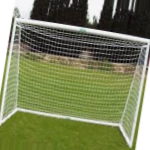goals: (1, 17, 150, 149)
